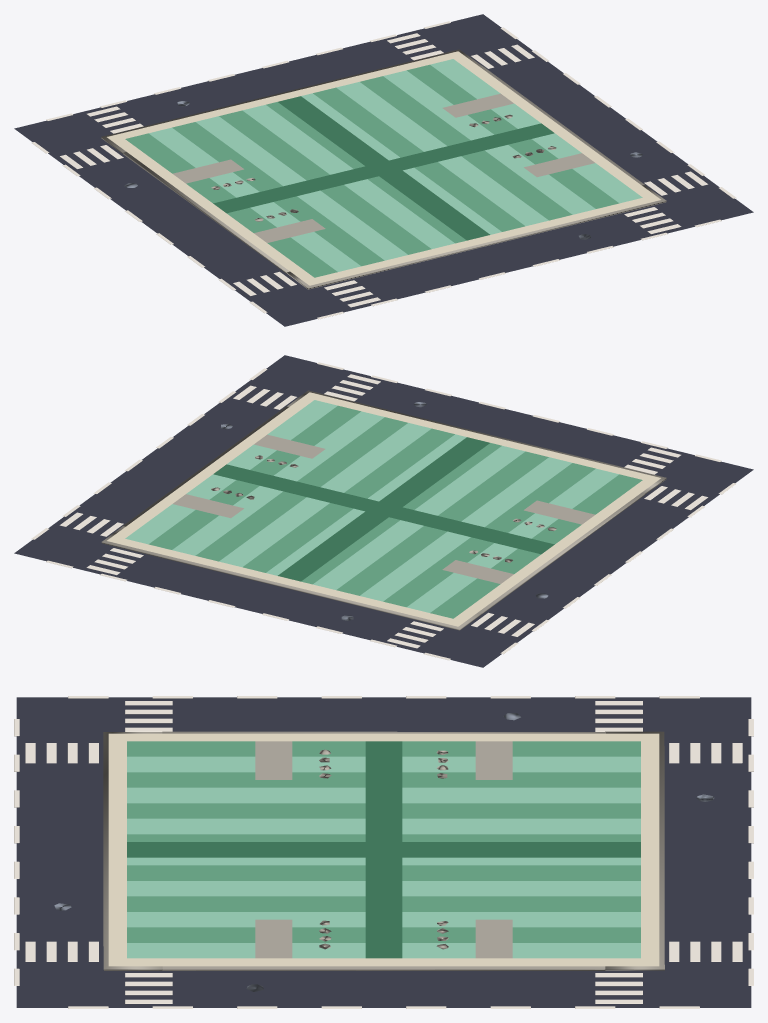
File: tile_residential.glb
The picture shows the model from 3 angles, top to bottom: view 1: azimuth 30°, elevation 25°; view 2: azimuth 150°, elevation 25°; view 3: azimuth 270°, elevation 25°; orthographic projection. The views are drawn at different scales.
Parts seen in each view (by area): view 1: tile_residential; view 2: tile_residential; view 3: tile_residential.
Boxes of the visible parts, x1=… form: tile_residential: x1=14, y1=14, x2=753, y2=326; tile_residential: x1=14, y1=355, x2=753, y2=667; tile_residential: x1=14, y1=696, x2=753, y2=1008.
Size of the model in its own units: 40.3 by 0.2115 by 40.3.
1 material, 1 textured.
